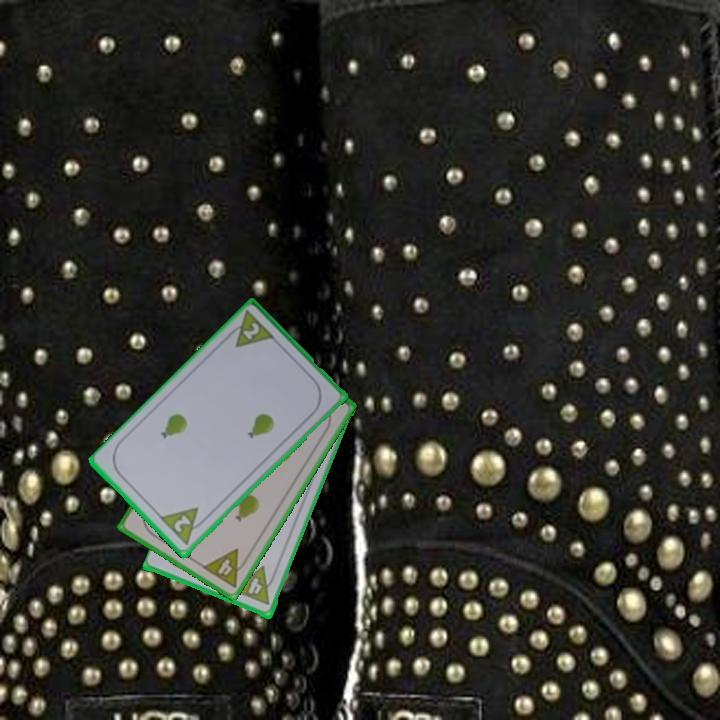2p: (157, 504, 211, 549), (223, 308, 278, 351)
4p: (199, 545, 252, 591), (231, 564, 265, 600)
